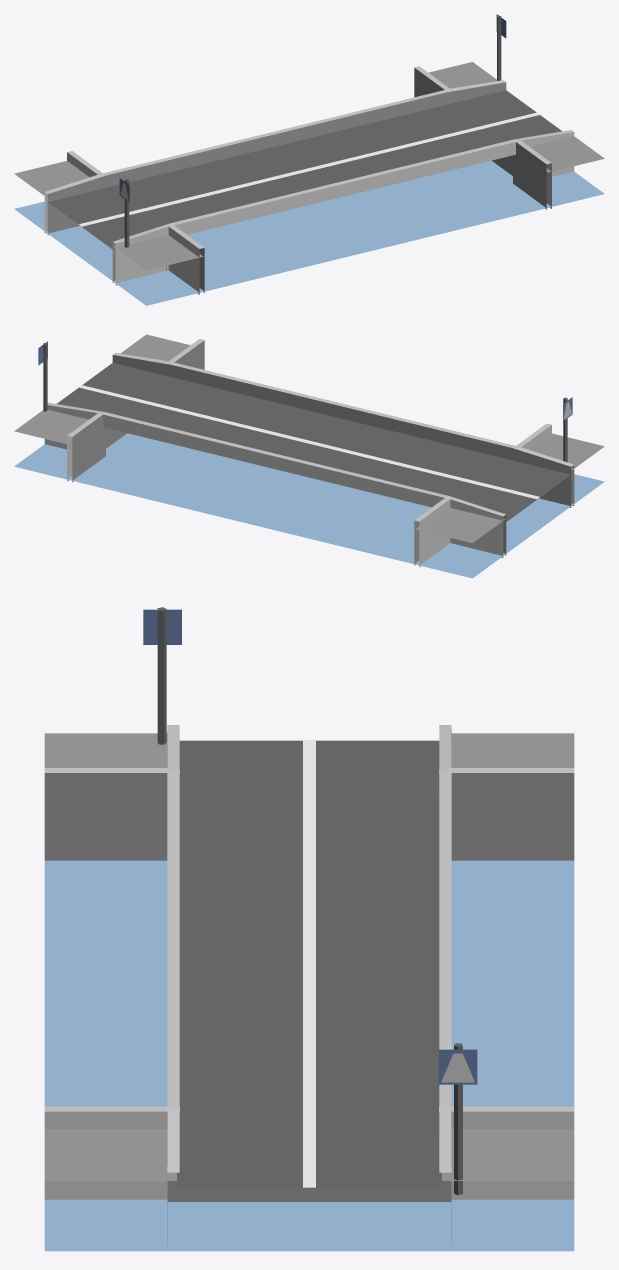
Rendered from road_tile_bridge_2x2_009.glb.
3 views of the same model, one above another, from view 1: azimuth 30°, elevation 25°; view 2: azimuth 150°, elevation 25°; view 3: azimuth 270°, elevation 25° (orthographic). The views are drawn at different scales.
Visible parts, largest first — view 1: road_tile_bridge_2x2_009; view 2: road_tile_bridge_2x2_009; view 3: road_tile_bridge_2x2_009.
Part boxes in pixels (x1=…): road_tile_bridge_2x2_009: x1=14, y1=14, x2=604, y2=305; road_tile_bridge_2x2_009: x1=14, y1=334, x2=604, y2=578; road_tile_bridge_2x2_009: x1=44, y1=607, x2=574, y2=1251.
Size of the model in its own units: 16 by 3.48 by 8.
Materials: 1 (1 with a texture image).
